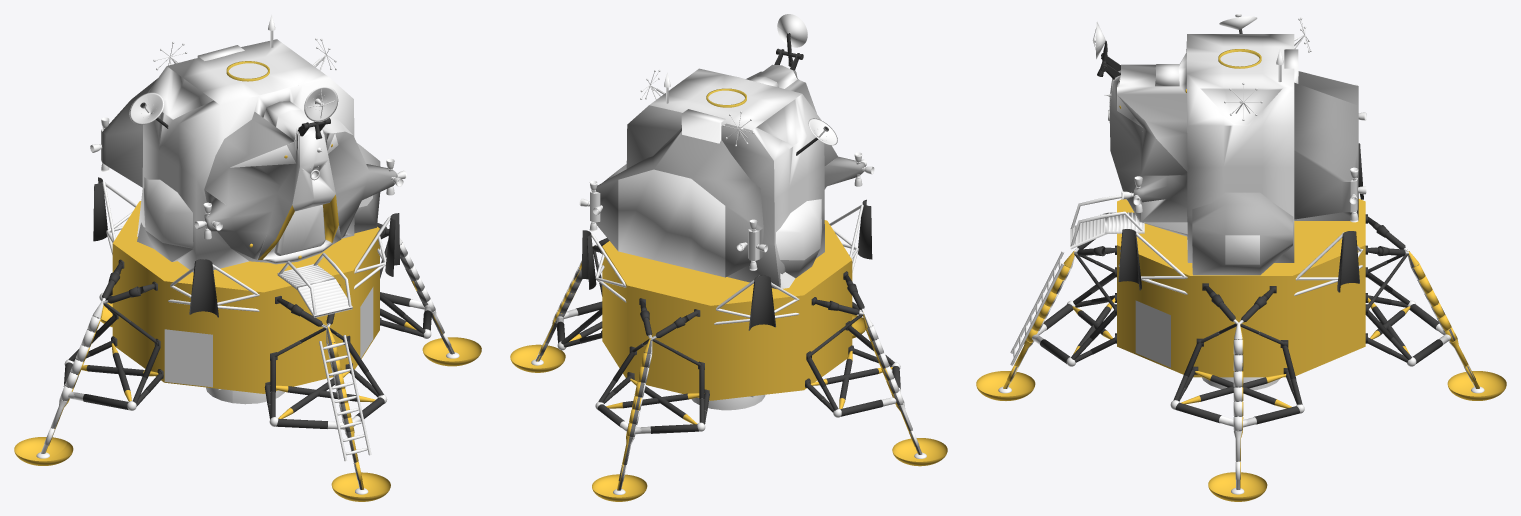
Rendered from moon_landing.glb.
3 renders of one model, left to right at view 1: azimuth 30°, elevation 25°; view 2: azimuth 150°, elevation 25°; view 3: azimuth 270°, elevation 25°, orthographic. The views are drawn at different scales.
Parts seen in each view (by area): view 1: polySurfac, pCylinder1, group31 19, pCylinde10, pCube2, group31 15, pPlane1, pCube3, pCube27, polySurfa1, group75 pP, group31 g6 (+16 smaller); view 2: pCylinder1, polySurfac, pCube2, group31 19, pCylinde10, group31 15, group31 16, group75 11, group31 g8, group31 g6, group31 14, group31 g7 (+10 smaller); view 3: polySurfac, pCylinder1, pCube2, pCylinder9, group31 19, group31 16, pPlane2, group31 15, pCube3, group31 g8, group31 g7, group31 g6 (+10 smaller).
Part boxes in pixels (bbox=[...]): polySurfac: bbox=[137, 39, 397, 272]; pCylinder1: bbox=[112, 201, 379, 393]; group31 19: bbox=[14, 302, 481, 501]; pCylinde10: bbox=[137, 177, 193, 261]; pCube2: bbox=[102, 45, 244, 187]; group31 15: bbox=[41, 238, 454, 489]; pPlane1: bbox=[164, 329, 212, 387]; pCube3: bbox=[277, 264, 352, 317]; pCube27: bbox=[274, 204, 325, 255]; polySurfa1: bbox=[319, 335, 371, 461]; group75 pP: bbox=[189, 259, 218, 317]; group31 g6: bbox=[68, 305, 431, 429]; pCylinder1: bbox=[602, 220, 852, 400]; polySurfac: bbox=[626, 64, 865, 288]; pCube2: bbox=[596, 109, 763, 277]; group31 19: bbox=[510, 314, 947, 501]; pCylinde10: bbox=[776, 199, 822, 288]; group31 15: bbox=[535, 260, 922, 490]; group31 16: bbox=[535, 246, 921, 490]; group75 11: bbox=[748, 275, 775, 330]; group31 g8: bbox=[569, 321, 852, 408]; group31 g6: bbox=[563, 301, 900, 434]; group31 14: bbox=[561, 308, 838, 410]; group31 g7: bbox=[556, 316, 896, 431]; polySurfac: bbox=[1109, 34, 1294, 262]; pCylinder1: bbox=[1117, 199, 1365, 377]; pCube2: bbox=[1284, 49, 1358, 220]; pCylinder9: bbox=[1192, 192, 1293, 275]; group31 19: bbox=[976, 371, 1506, 501]; group31 16: bbox=[1003, 251, 1479, 489]; pPlane2: bbox=[1135, 300, 1170, 367]; group31 15: bbox=[1006, 254, 1476, 489]; pCube3: bbox=[1070, 212, 1144, 249]; group31 g8: bbox=[1073, 297, 1409, 408]; group31 g7: bbox=[1032, 334, 1450, 427]; group31 g6: bbox=[1038, 304, 1444, 426].
Bounding box in the file's own units: 6.43 × 5.01 × 6.43.
